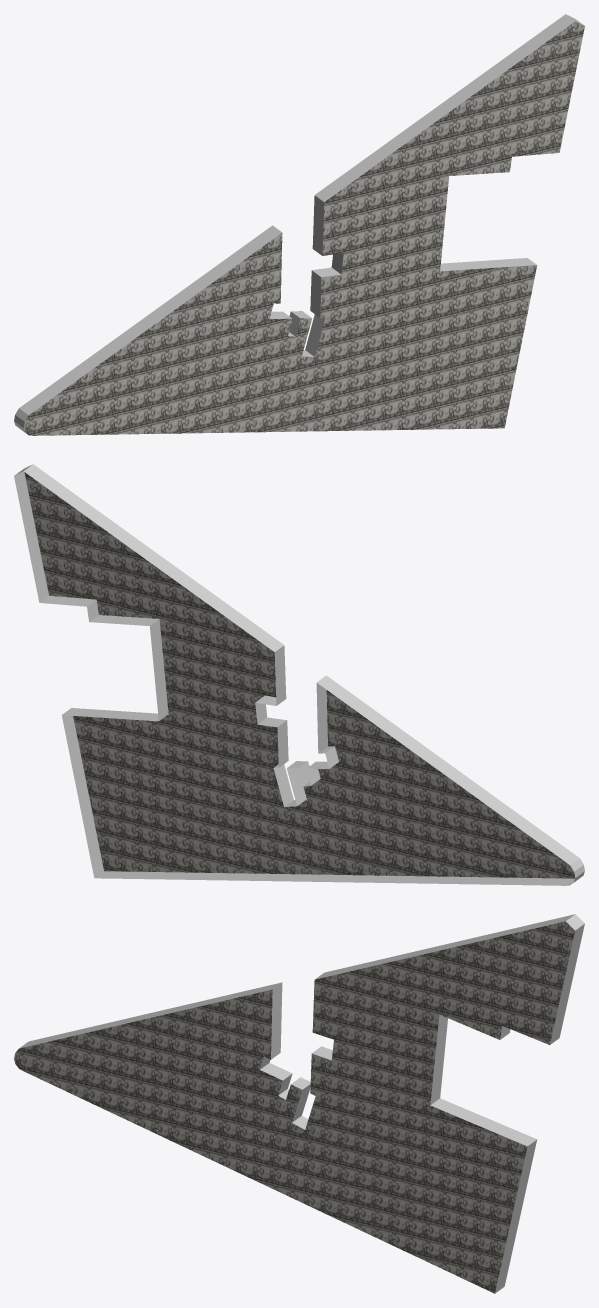
File: geospecific_372.obj
3 views of the same model, one above another, from view 1: azimuth 30°, elevation 25°; view 2: azimuth 150°, elevation 25°; view 3: azimuth 330°, elevation 25° (orthographic).
Parts seen in each view (by area): view 1: Building; view 2: Building; view 3: Building.
Part boxes in pixels (box(x1,y1,x2,y2)): Building: box(14, 14, 584, 435); Building: box(14, 464, 584, 885); Building: box(14, 914, 584, 1293).
Bounding box in the file's own units: 99.38 × 65.97 × 3.
